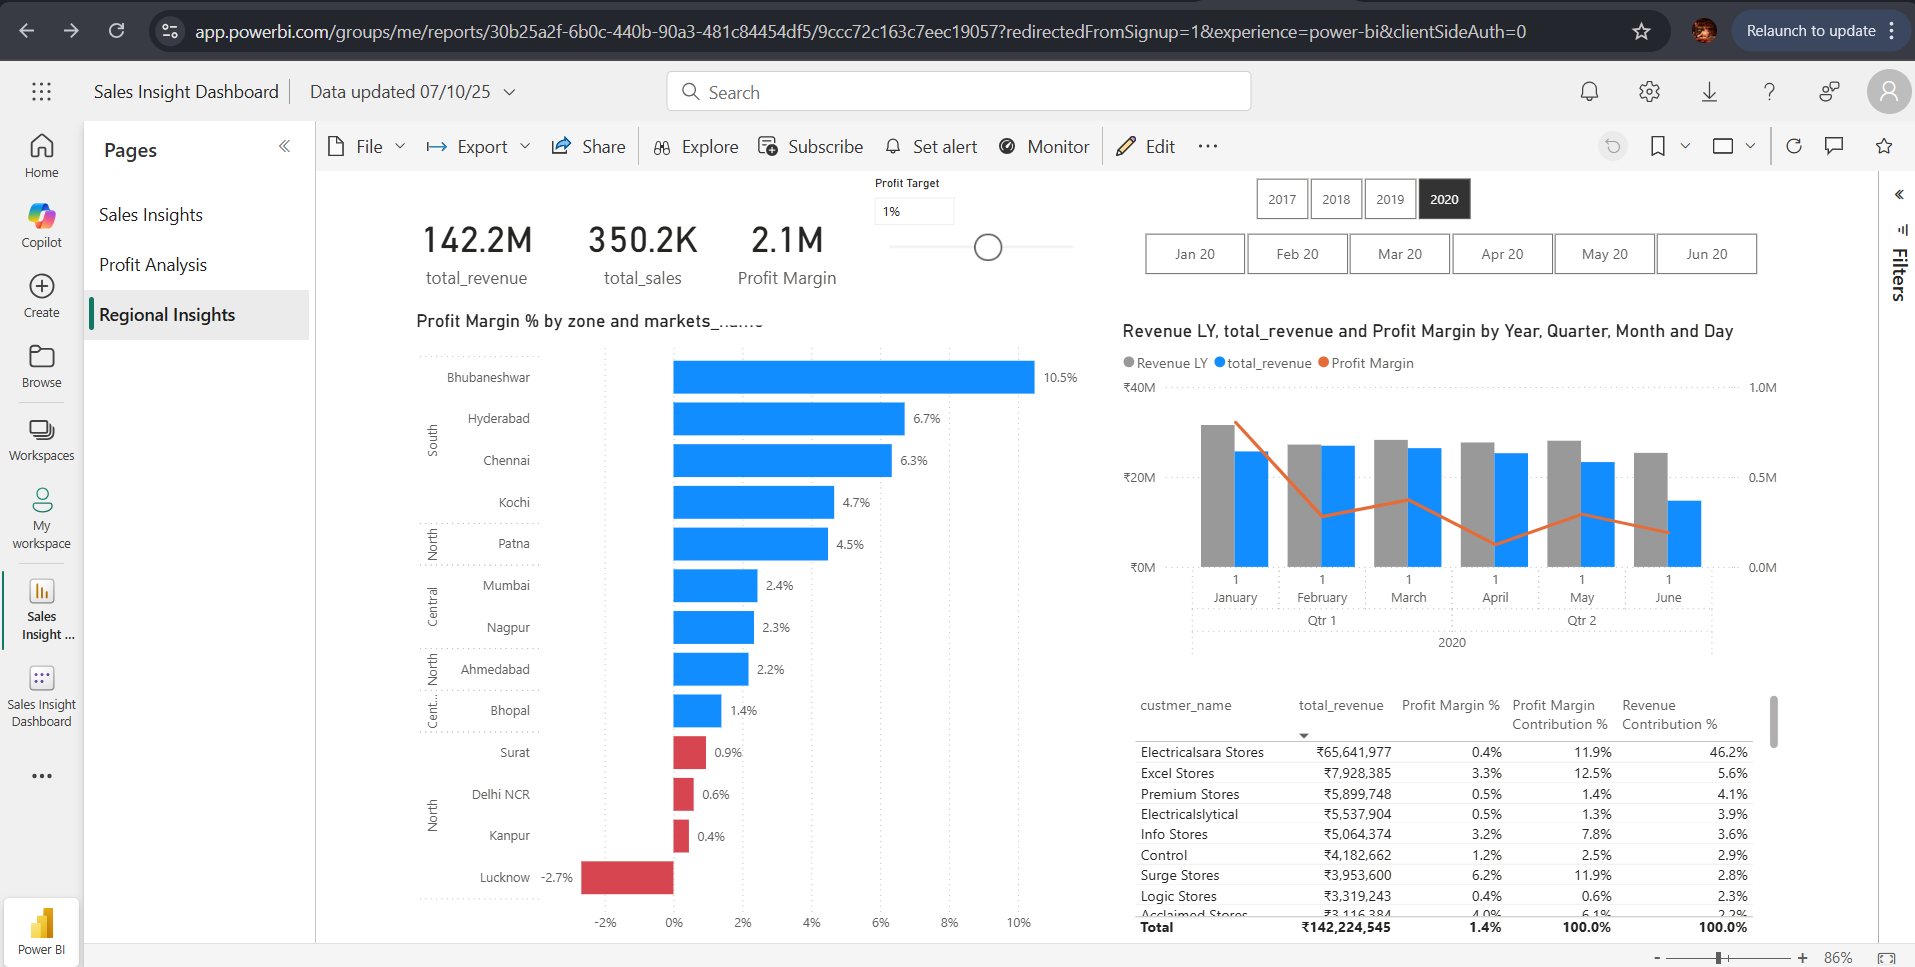

What the dashboard file says about the page in this screenshot:
{"tool":"powerbi","page":{"name":"Regional Insights","canvas":[1280,720],"ordinal":2},"visuals":[{"type":"card","fields":{"Values":["BaseMeasures.total_revenue"]},"box":[0,0,123,143.9],"z":0},{"type":"card","fields":{"Values":["BaseMeasures.total_sales"]},"box":[145.1,0,143.9,143.9],"z":1000},{"type":"barChart","fields":{"Category":["sales markets.zone","sales markets.markets_name"],"Y":["BaseMeasures.Profit Margin %"]},"box":[0,129.1,639.5,590.3],"z":2000},{"type":"slicer","fields":{"Values":["sales date.year"]},"box":[762.5,0,249.7,51.7],"z":3000},{"type":"slicer","fields":{"Values":["sales date.cy_date"]},"box":[659.2,51.7,621.1,51.7],"z":4000},{"type":"tableEx","fields":{"Values":["sales customers.custmer_name","BaseMeasures.total_revenue","BaseMeasures.Profit Margin %","BaseMeasures.Profit Margin Contribution %","BaseMeasures.Revenue Contribution %"]},"box":[669,483.3,611.2,234.9],"z":5000},{"type":"lineClusteredColumnComboChart","fields":{"Category":["sales date.cy_date.Variation.Date Hierarchy.Year","sales date.cy_date.Variation.Date Hierarchy.Quarter","sales date.cy_date.Variation.Date Hierarchy.Month","sales date.cy_date.Variation.Date Hierarchy.Day"],"Y":["BaseMeasures.Revenue LY","BaseMeasures.total_revenue"],"Y2":["BaseMeasures.Profit Margin"]},"box":[659.2,139,621.1,323.4],"z":6000},{"type":"card","fields":{"Values":["BaseMeasures.Profit Margin"]},"box":[281.6,0,137.7,143.9],"z":7000},{"type":"slicer","fields":{"Values":["Profit Target.Profit Target"]},"box":[419.4,0,220.1,103.3],"z":8000}]}

Visuals, with their boxes on the page's 1280x720 design canvas (x1, y1, x2, y2). These are canvas units, not pixel positions in the 1915x967 screenshot, which may show the page scaled, cropped or inside an application window:
card - BaseMeasures.total_revenue: x1=0, y1=0, x2=123, y2=144
card - BaseMeasures.total_sales: x1=145, y1=0, x2=289, y2=144
barChart - sales markets.zone x sales markets.markets_name: x1=0, y1=129, x2=640, y2=719
slicer - sales date.year: x1=762, y1=0, x2=1012, y2=52
slicer - sales date.cy_date: x1=659, y1=52, x2=1280, y2=103
tableEx - sales customers.custmer_name x BaseMeasures.total_revenue: x1=669, y1=483, x2=1280, y2=718
lineClusteredColumnComboChart - sales date.cy_date.Variation.Date Hierarchy.Year x sales date.cy_date.Variation.Date Hierarchy.Quarter: x1=659, y1=139, x2=1280, y2=462
card - BaseMeasures.Profit Margin: x1=282, y1=0, x2=419, y2=144
slicer - Profit Target.Profit Target: x1=419, y1=0, x2=640, y2=103
